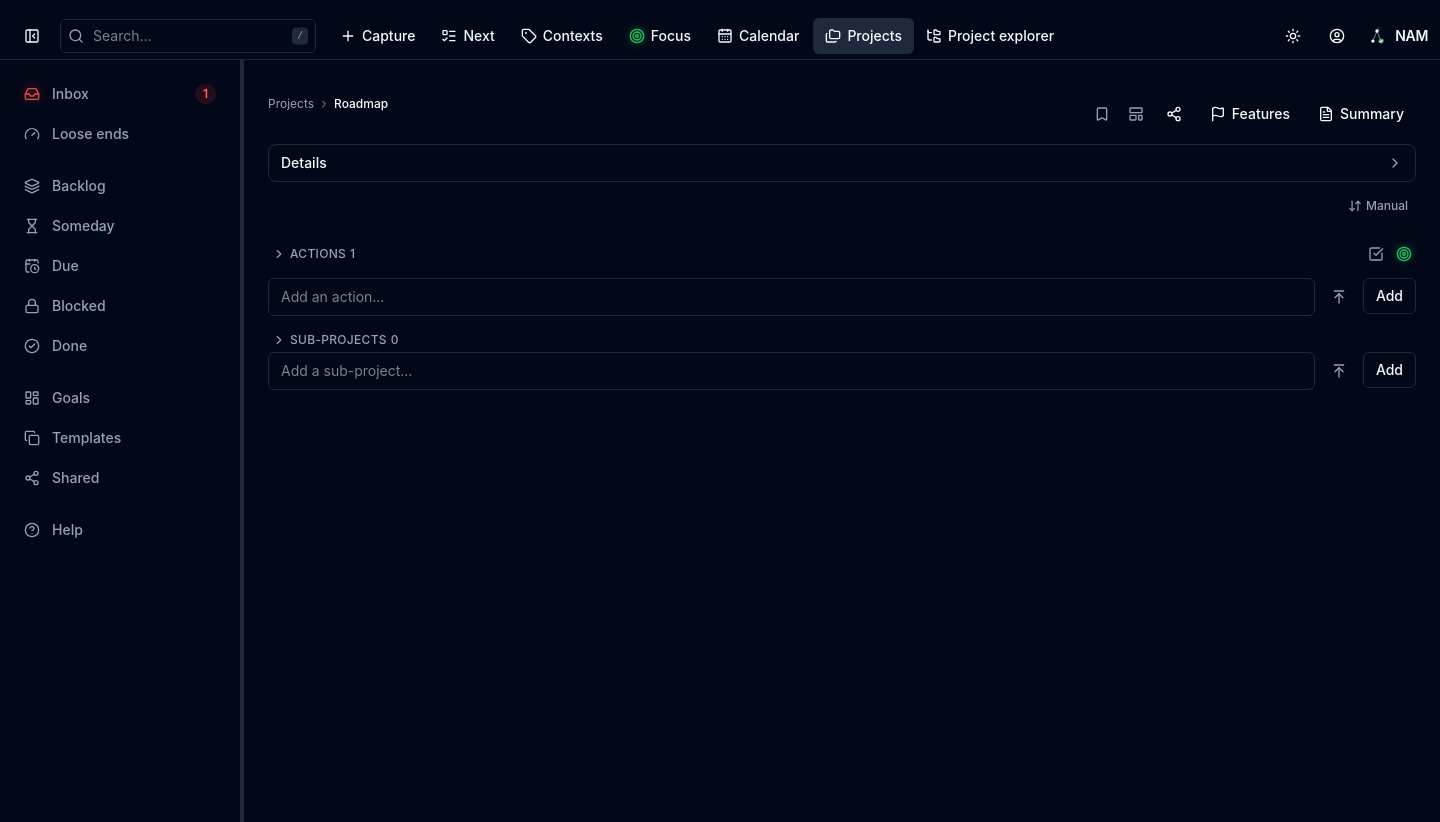
routing › renders a project workbench at /projects/:id, sections collapsed by default
Expected: the button "Projects" is shown, x1=268 y1=96 x2=314 y2=112
Expected: the text "Task one" is not shown
// Expanding the Actions section reveals the direct action.
Click the button "Actions 1". click: (318, 254)
box: x1=268 y1=246 x2=1360 y2=262
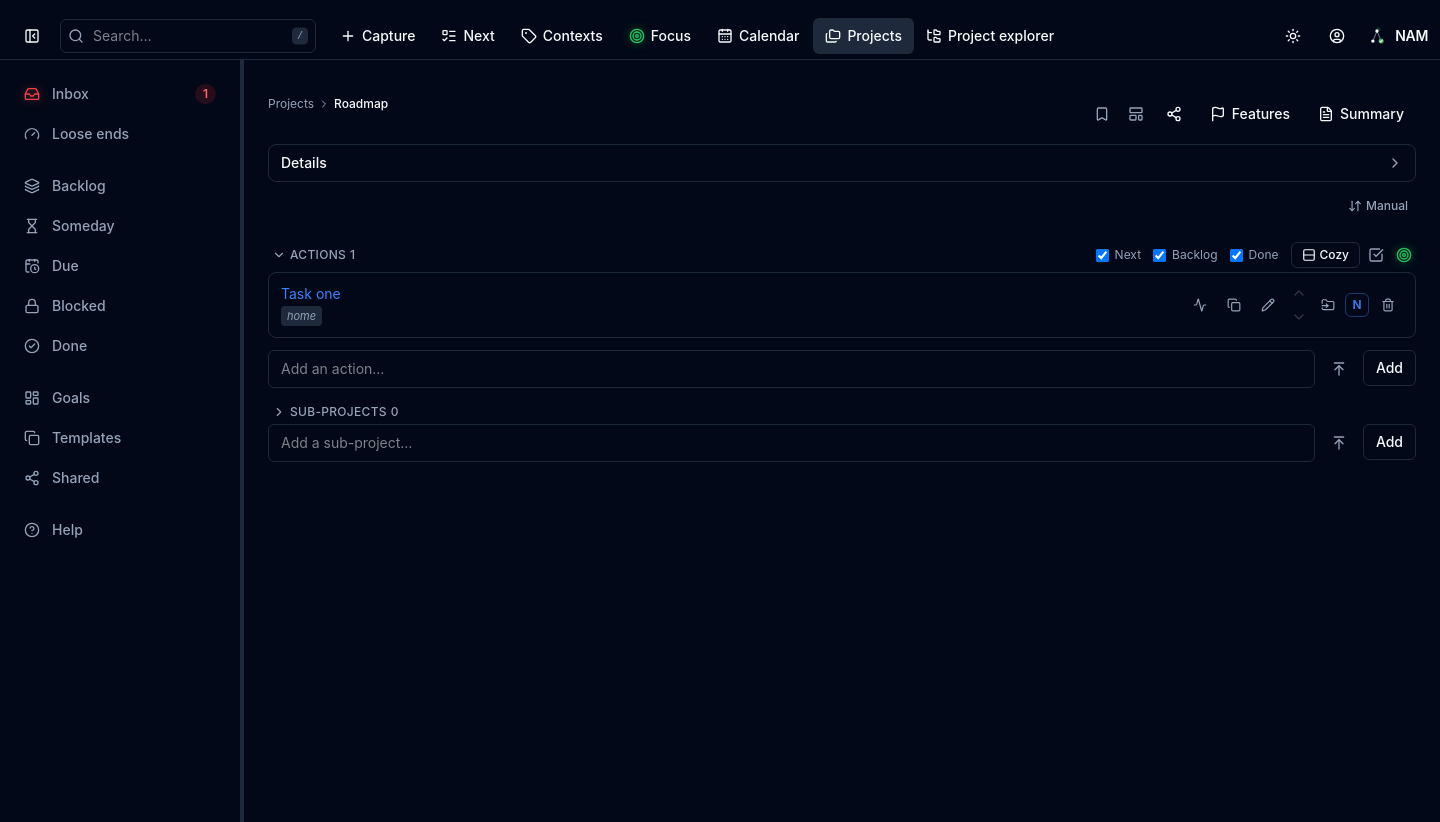
Expected: the text "Task one" is shown, x1=281 y1=285 x2=341 y2=302
